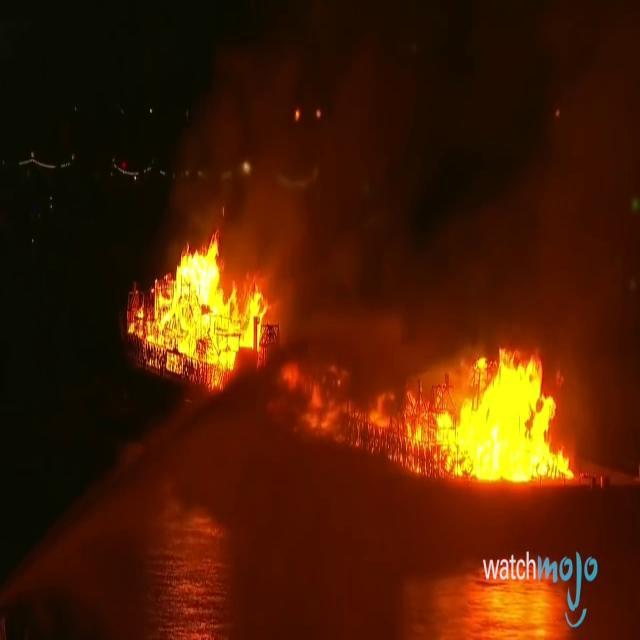Fire: (126, 228, 269, 392), (435, 347, 575, 482)
